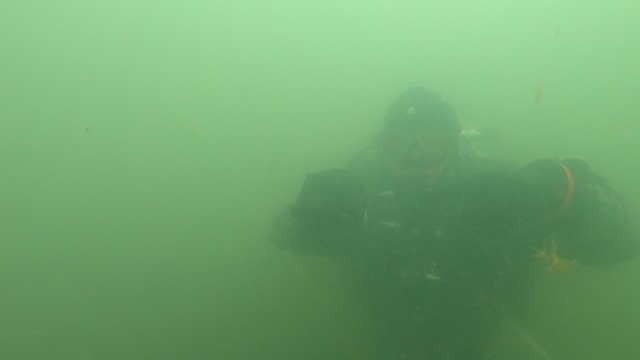Hand: (452, 154, 564, 238), (298, 164, 376, 237)
Head: (382, 86, 474, 228)
